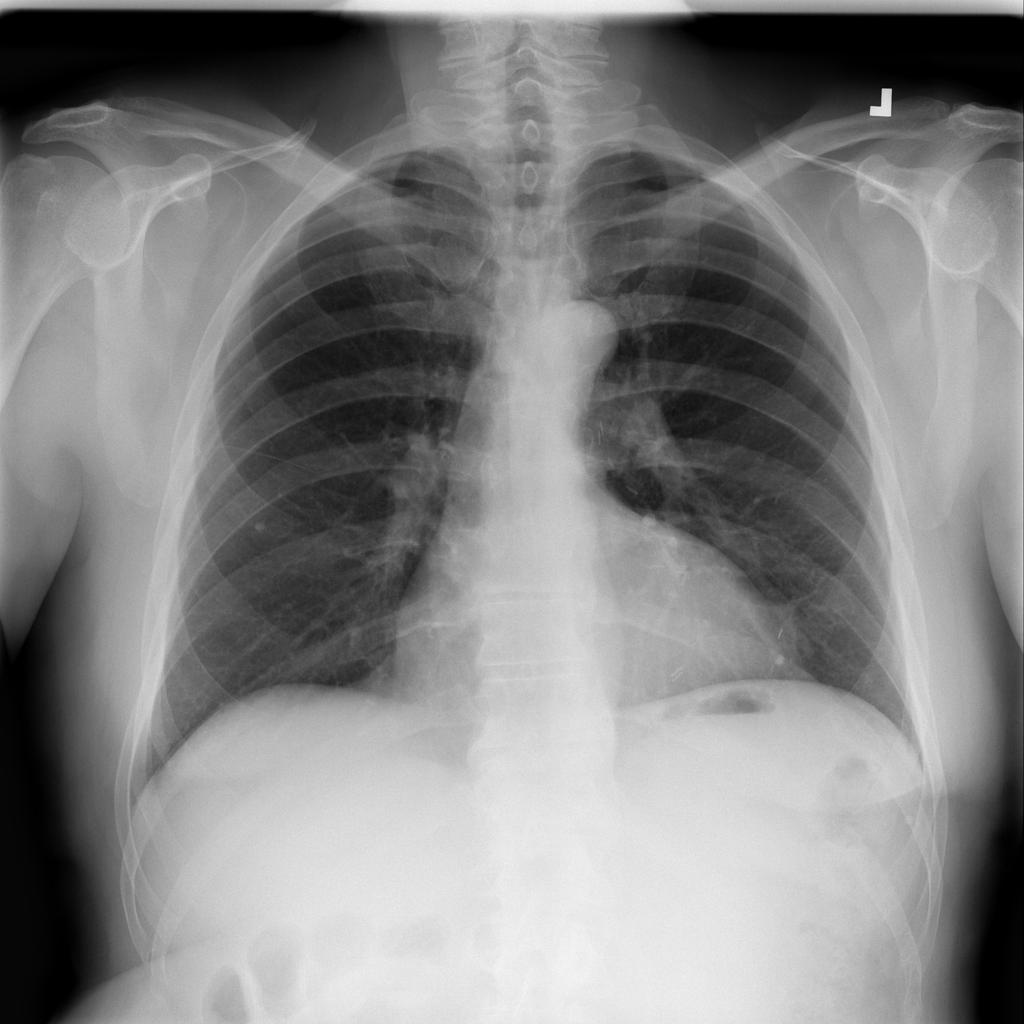nodule: (243, 506, 281, 542)
